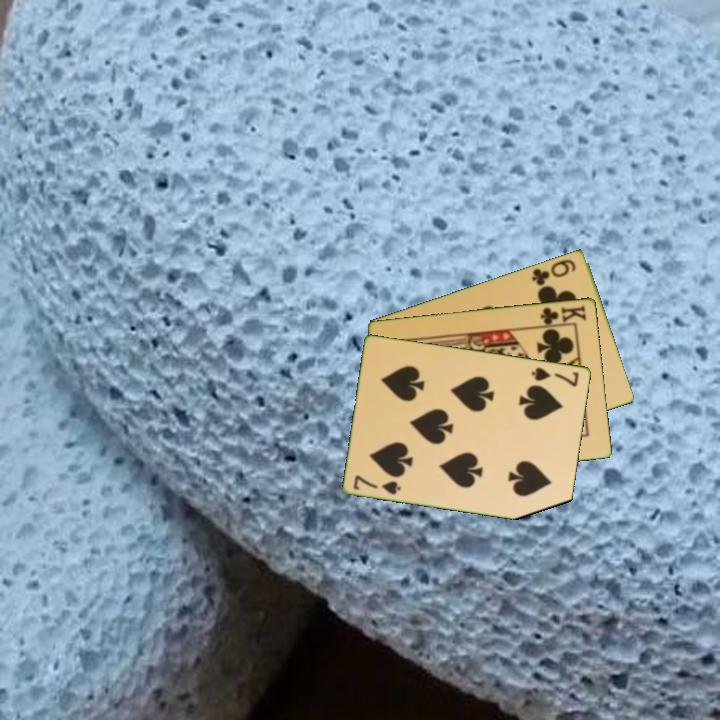6c: (528, 255, 579, 288)
7s: (350, 471, 404, 497), (528, 364, 582, 389)
Kc: (535, 302, 589, 329)
